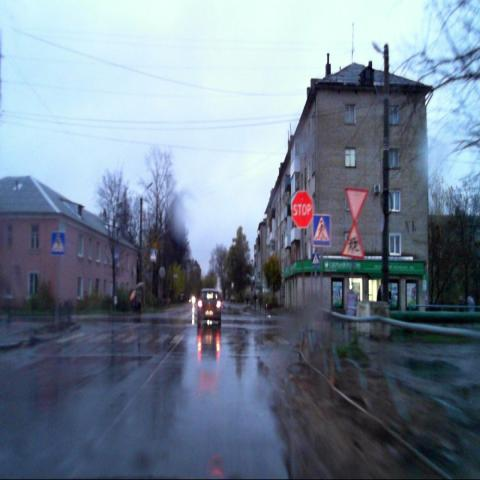5_19_1: (312, 214, 330, 246)
